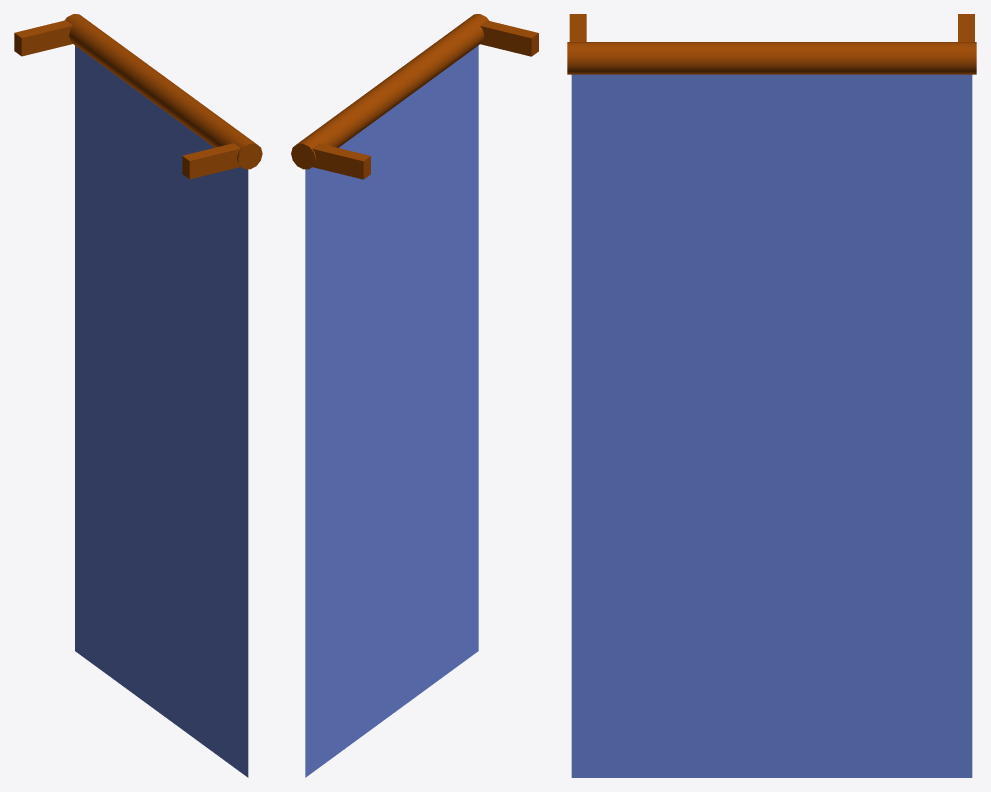
The model's file is Banner2.fbx.
3 views of the same model, side by side, from view 1: azimuth 30°, elevation 25°; view 2: azimuth 150°, elevation 25°; view 3: azimuth 270°, elevation 25° (orthographic). The views are drawn at different scales.
Parts seen in each view (by area): view 1: Flag_Flag, Flag_Pole; view 2: Flag_Flag, Flag_Pole; view 3: Flag_Flag, Flag_Pole.
Boxes of the visible parts, x1,y1,x2,y2 form: Flag_Flag: (75, 45, 248, 777); Flag_Pole: (14, 14, 262, 179); Flag_Flag: (305, 45, 478, 777); Flag_Pole: (291, 14, 538, 179); Flag_Flag: (571, 74, 972, 777); Flag_Pole: (567, 14, 976, 74).
Size of the model in its own units: 21.26 by 180 by 90.73.
